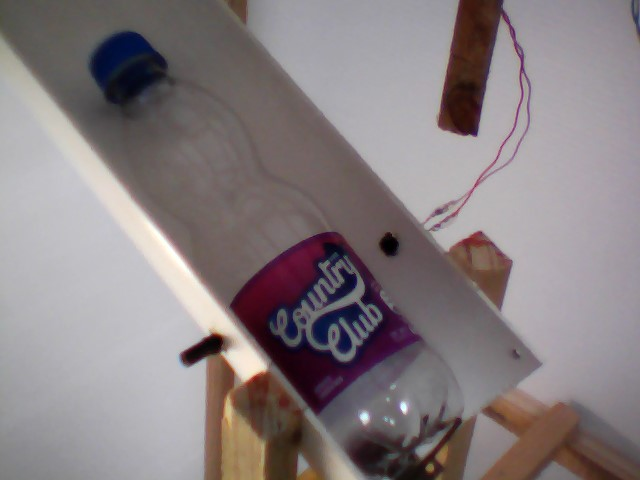plastico: (84, 26, 478, 474)
